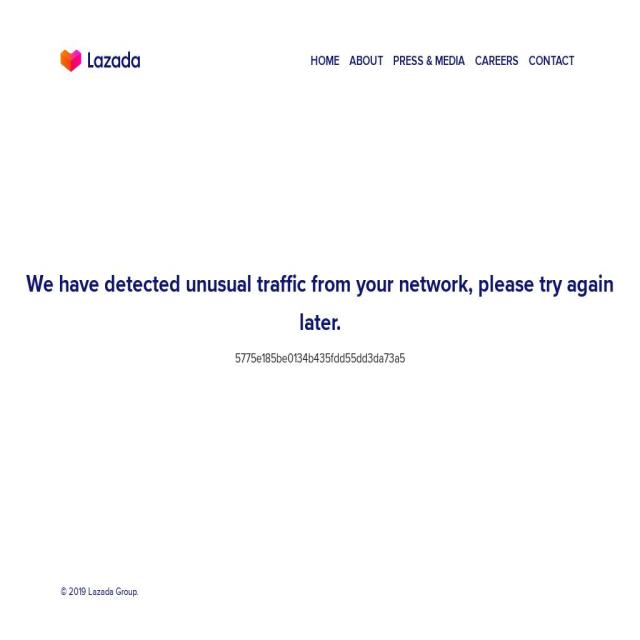button: (61, 40, 140, 82)
heading: (26, 268, 614, 338)
image: (61, 44, 140, 78)
link: (393, 53, 465, 69), (528, 53, 574, 69), (474, 53, 519, 69), (349, 53, 383, 69), (310, 53, 339, 69)
text: (60, 584, 640, 600), (235, 349, 405, 367)
